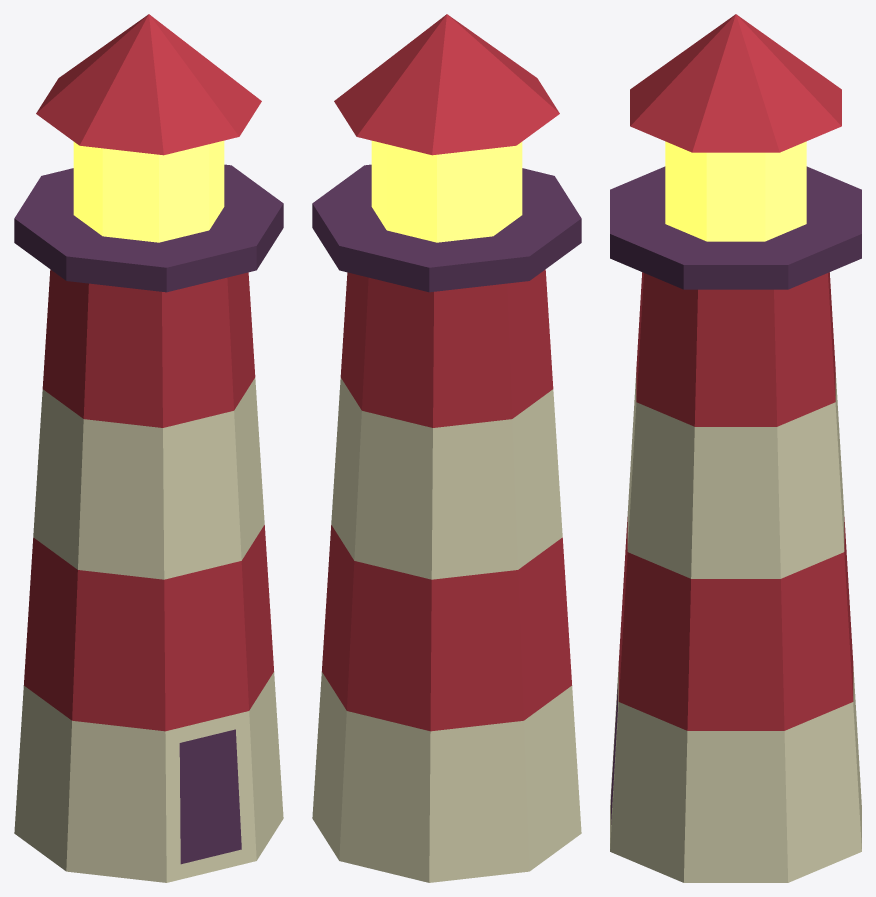
File: lighthouse.glb
3 views of the same model, side by side, from view 1: azimuth 30°, elevation 25°; view 2: azimuth 150°, elevation 25°; view 3: azimuth 270°, elevation 25° (orthographic).
Visible parts, largest first — view 1: Tower, Cap, Gallery, LampRoom; view 2: Tower, Cap, Gallery, LampRoom; view 3: Tower, Cap, Gallery, LampRoom.
Part boxes in pixels (<box>): Tower: <box>14,269,283,882</box>; Cap: <box>36,14,261,155</box>; Gallery: <box>14,164,283,292</box>; LampRoom: <box>73,140,224,242</box>; Tower: <box>312,269,581,882</box>; Cap: <box>334,14,559,155</box>; Gallery: <box>312,164,581,292</box>; LampRoom: <box>371,140,522,242</box>; Tower: <box>610,272,861,882</box>; Cap: <box>630,14,841,152</box>; Gallery: <box>610,166,861,289</box>; LampRoom: <box>665,141,806,241</box>.
Bounding box in the file's own units: 0.9239 × 3.3 × 0.9239.
